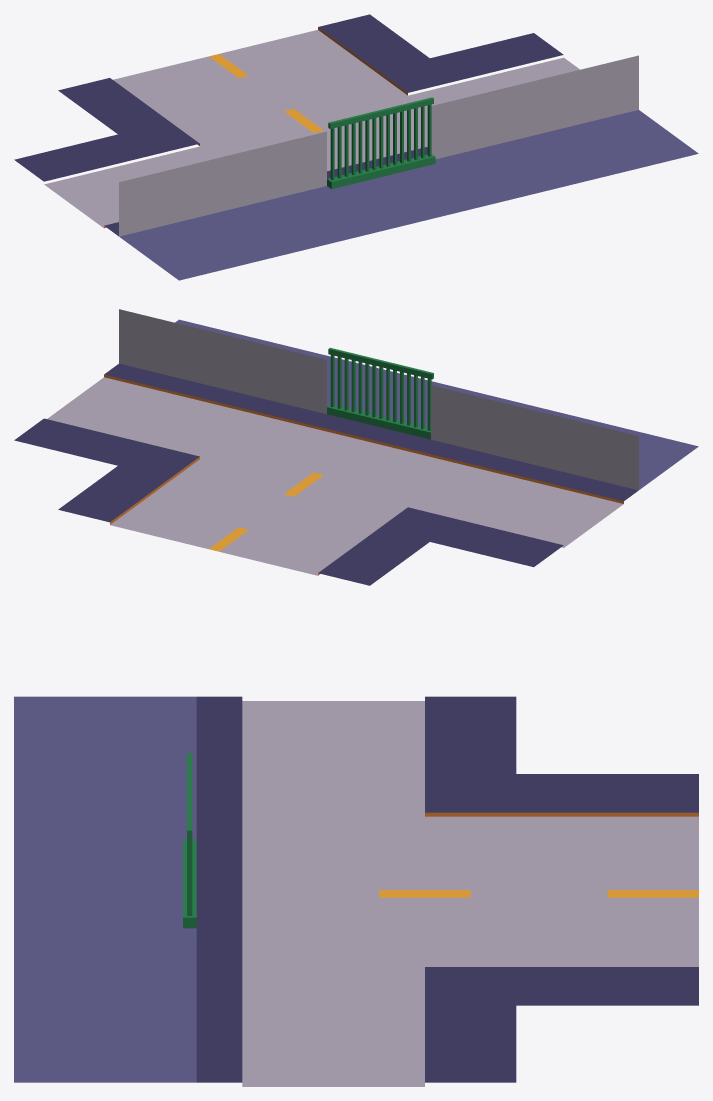
Rendered from goal.obj.
3 views of the same model, one above another, from view 1: azimuth 30°, elevation 25°; view 2: azimuth 150°, elevation 25°; view 3: azimuth 270°, elevation 25° (orthographic). The views are drawn at different scales.
Visible parts, largest first — view 1: GOAL; view 2: GOAL; view 3: GOAL.
Part boxes in pixels (left/top/right/bottom): GOAL: left=14, top=14, right=698, bottom=280; GOAL: left=14, top=309, right=698, bottom=585; GOAL: left=14, top=696, right=698, bottom=1086.
Bounding box in the file's own units: 20 × 2.46 × 15.
